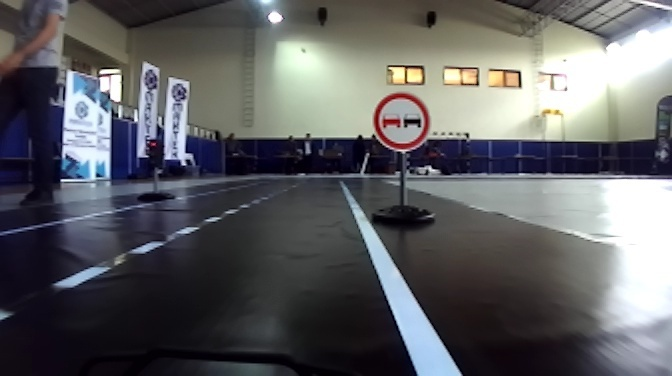sollama_yasak: (372, 94, 429, 152)
